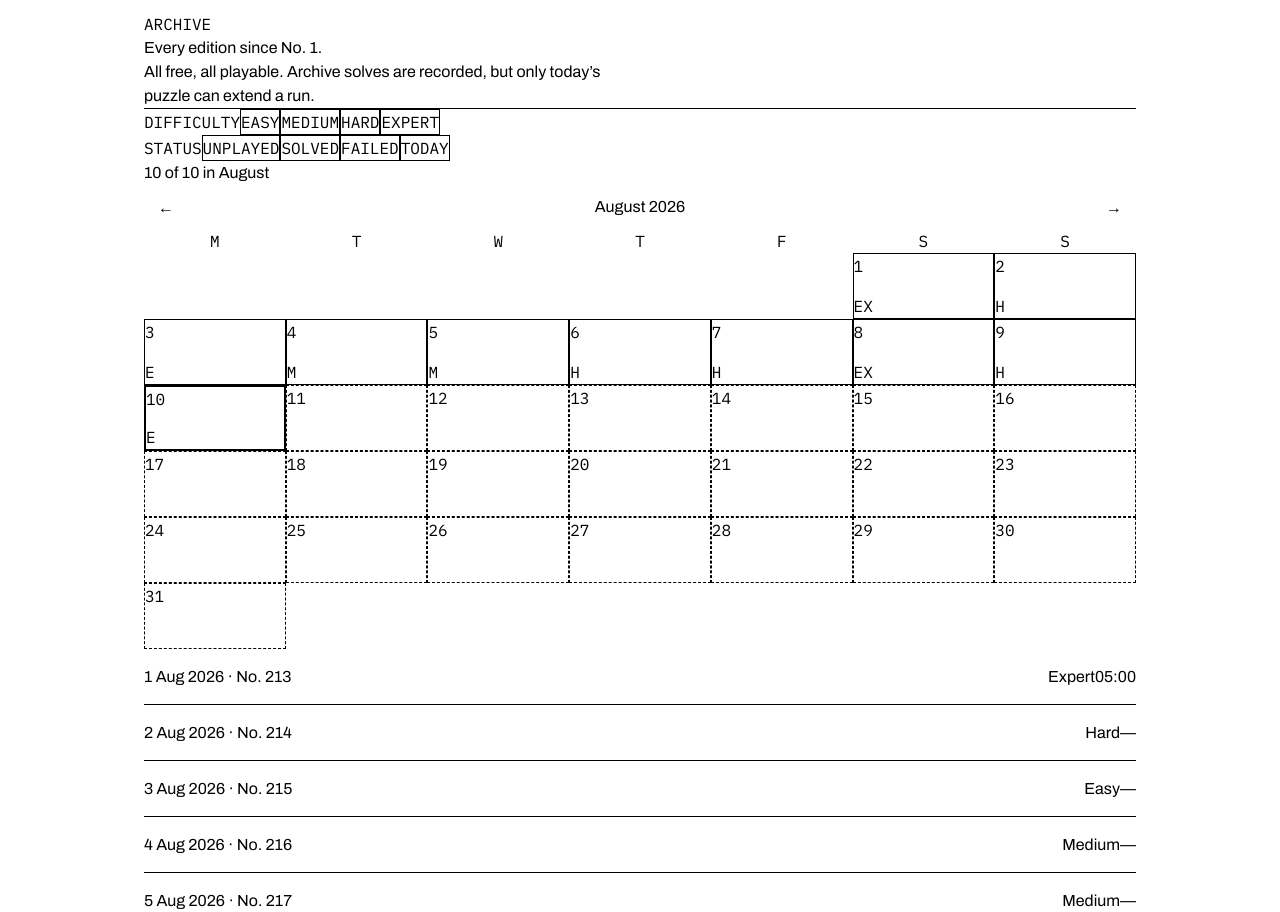
Test: ArchiveScreen › narrows by status
This screenshot has width=1280, height=912.
Click the button "Solved": (310, 148) [280,135,340,161]
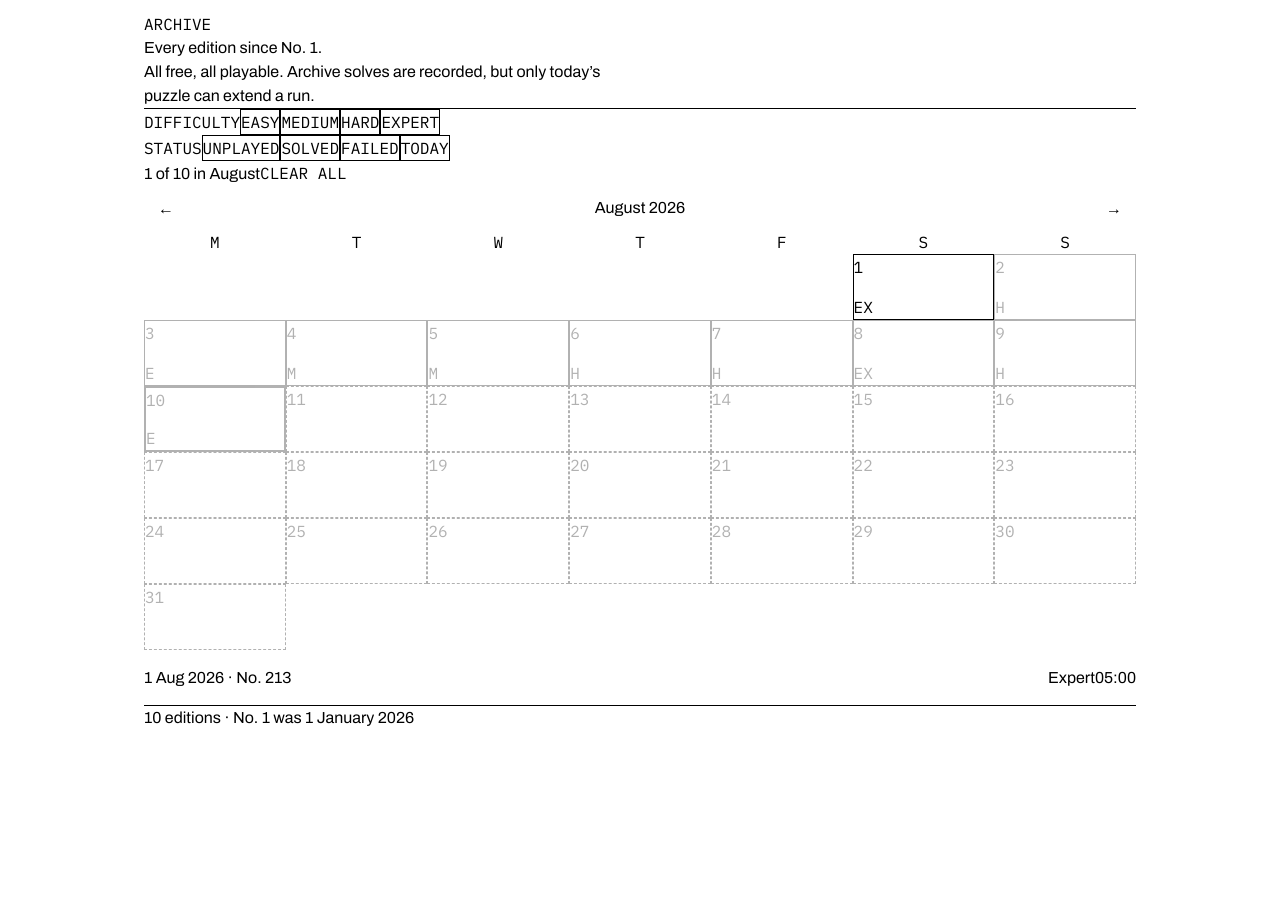
Expected: the text "1 of 10 in August" is shown, [144,162,260,186]
